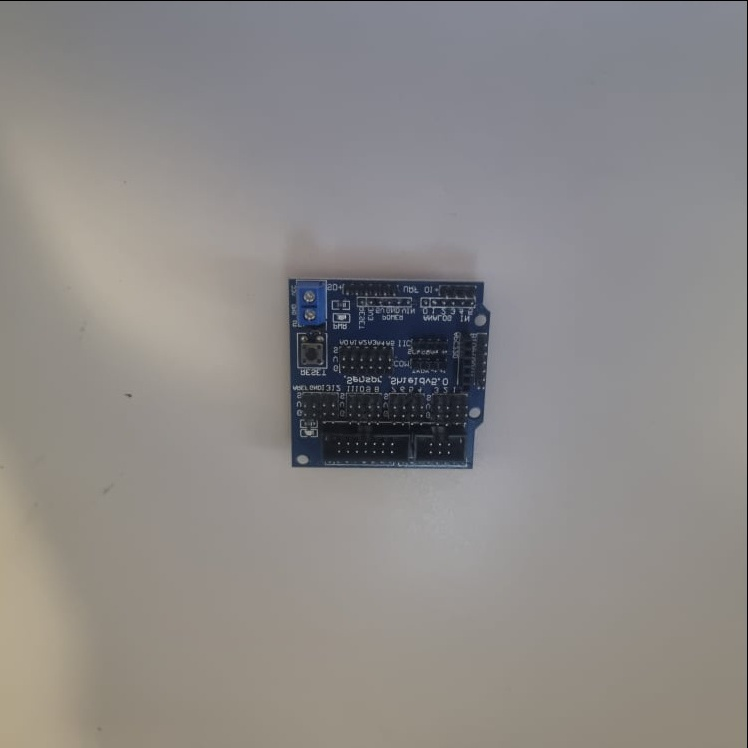5V EXPANSION: (290, 275, 497, 470)
